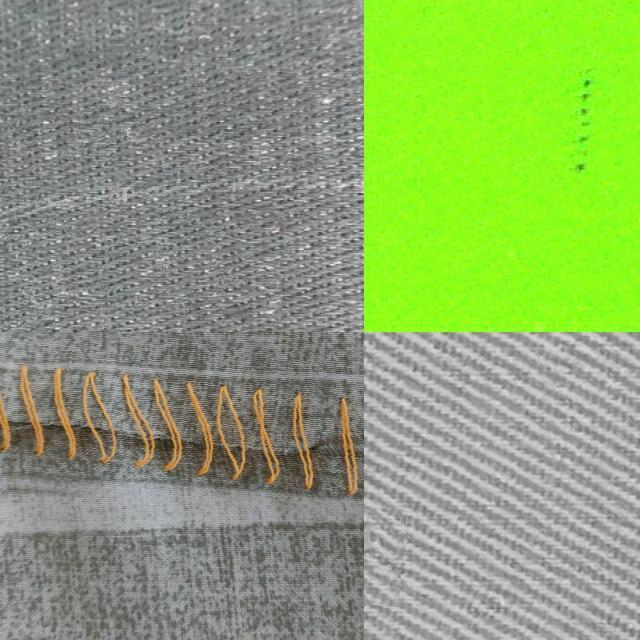Stitch: (0, 332, 364, 516)
Thread_other: (521, 3, 640, 220)
seam: (364, 497, 404, 605)
